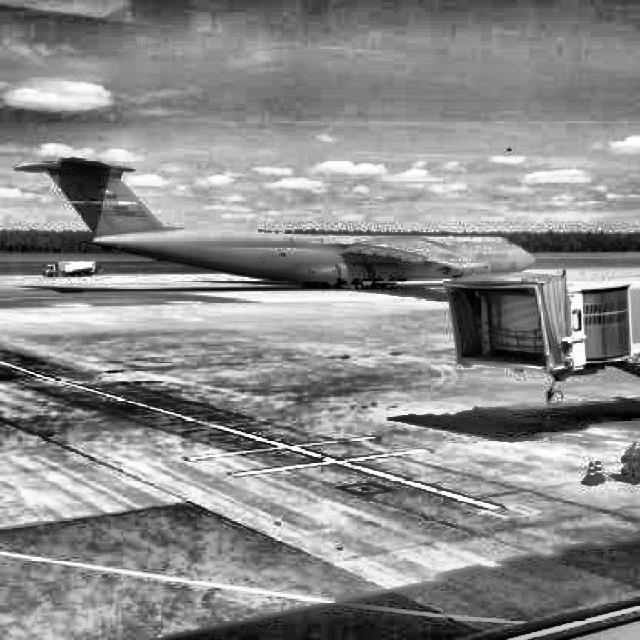C5: (13, 158, 536, 290)
